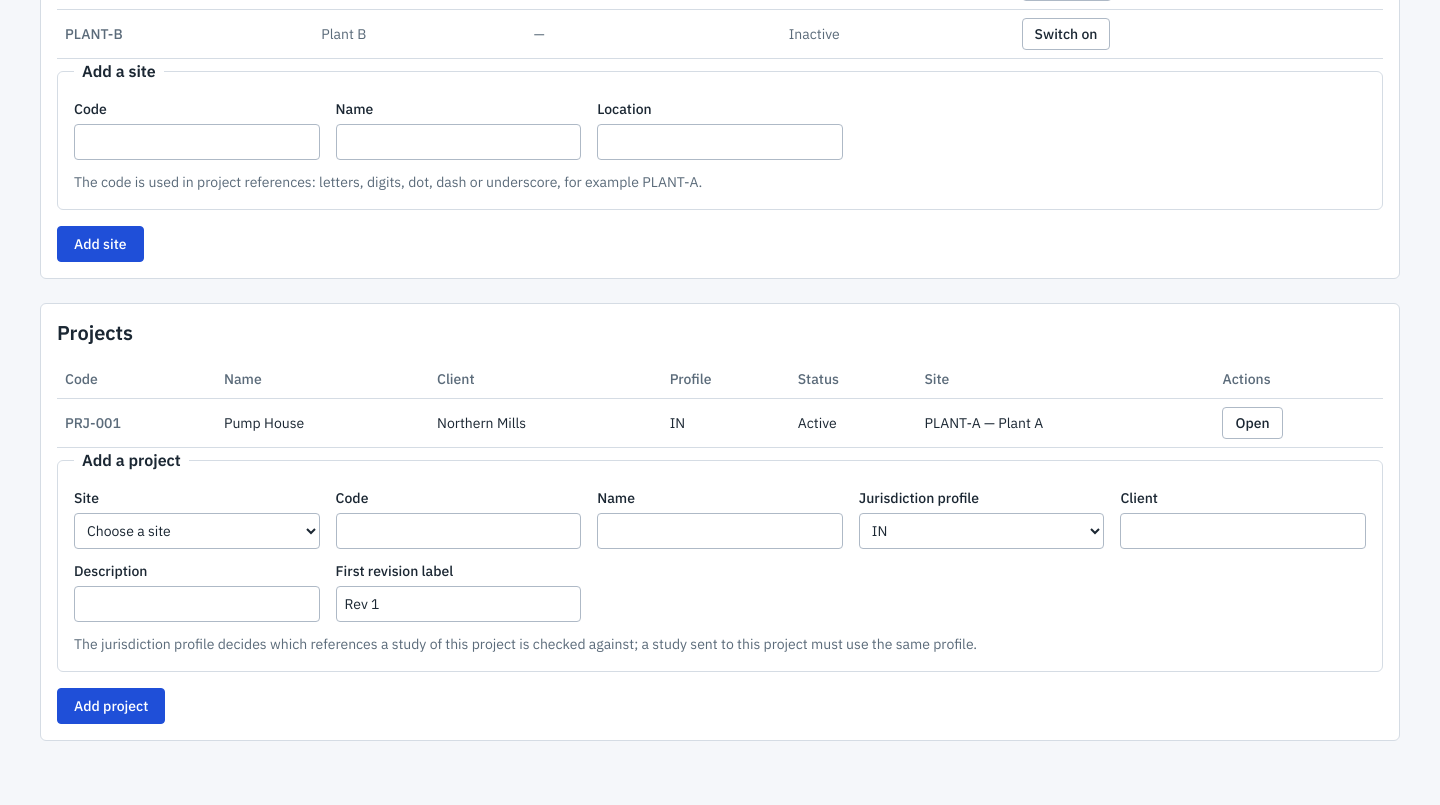
ProjectsPage › lets an engineer keep the projects but not issue or archive
(page scrolled)
Click the button "Open": (1253, 423) [1222,407,1283,439]
(page scrolled)
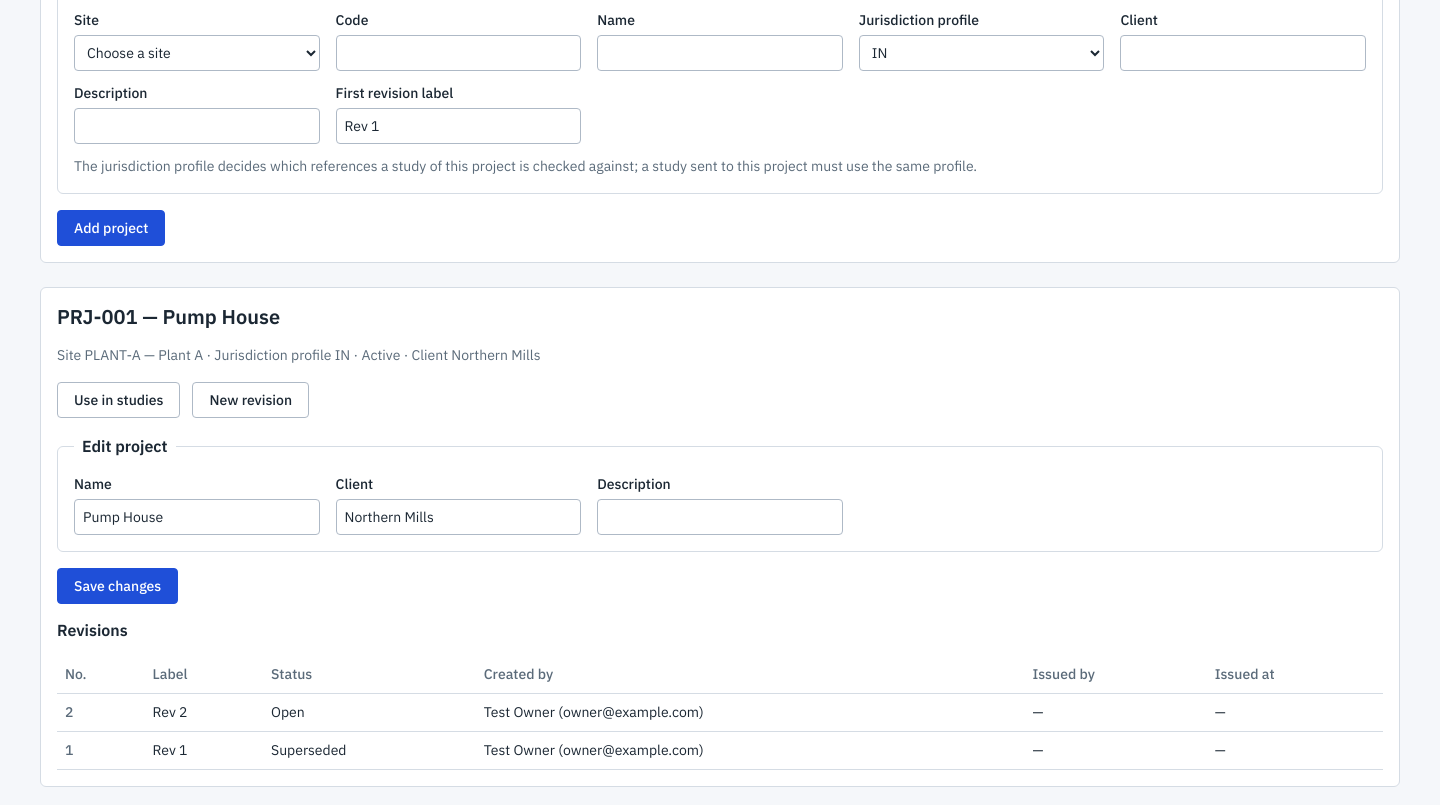
Expected: the heading "PRJ-001 — Pump House" is shown, [57,303,280,330]
Expected: the form "Edit project" is shown, [57,434,1383,604]
Expected: the button "New revision" is shown, [192,382,309,418]
